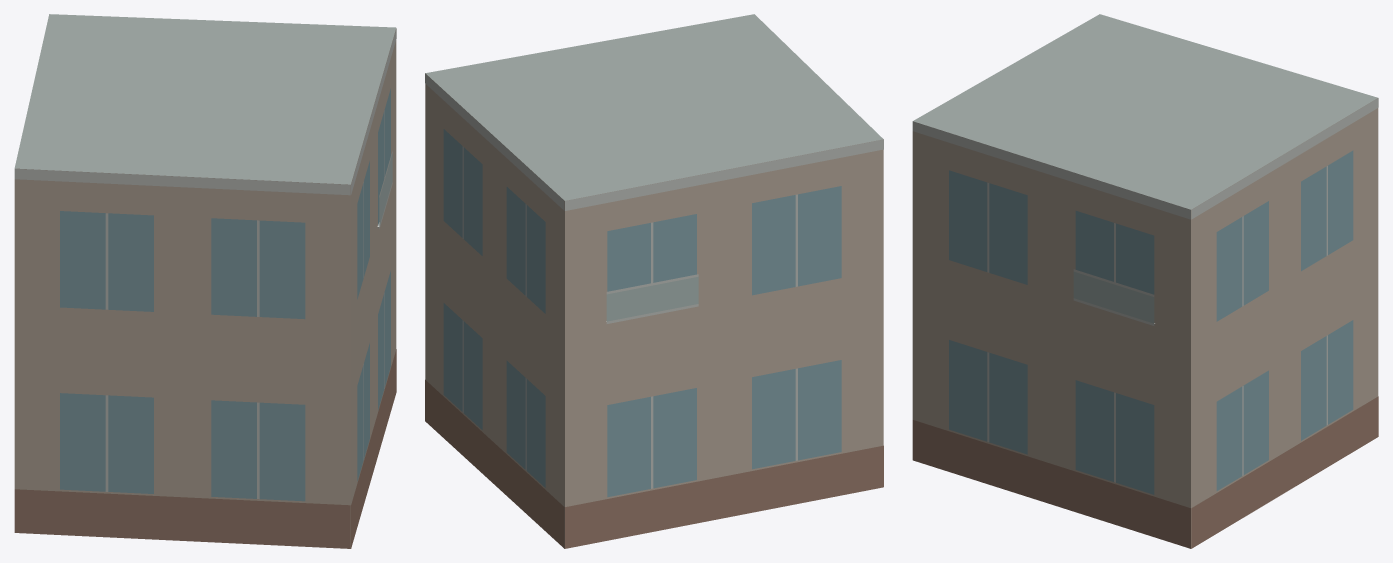
File: survey-upis-32988974.glb
3 views of the same model, side by side, from view 1: azimuth 30°, elevation 25°; view 2: azimuth 150°, elevation 25°; view 3: azimuth 270°, elevation 25° (orthographic). The views are drawn at different scales.
Visible parts, largest first — view 1: survey-upis-32988974.tmp; view 2: survey-upis-32988974.tmp; view 3: survey-upis-32988974.tmp.
Boxes of the visible parts, bbox=[...] form: survey-upis-32988974.tmp: bbox=[14, 14, 396, 548]; survey-upis-32988974.tmp: bbox=[425, 14, 883, 548]; survey-upis-32988974.tmp: bbox=[912, 14, 1378, 548].
Size of the model in its own units: 10.29 by 8.3 by 10.34.
